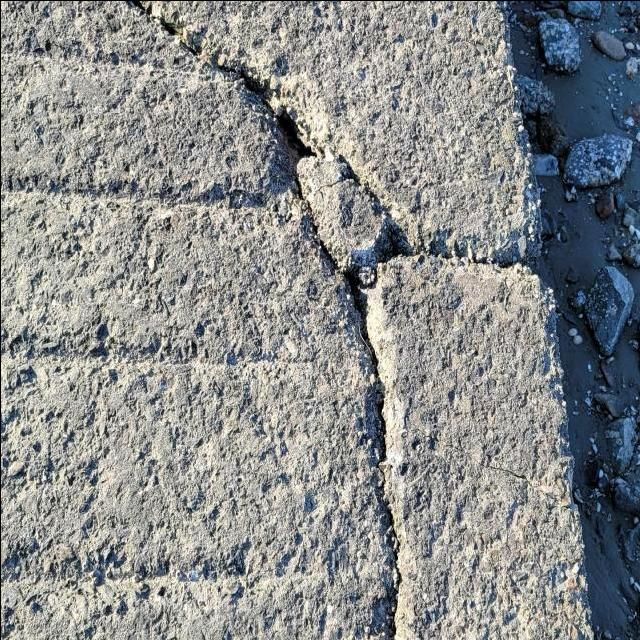SurfaceCrack: (19, 0, 541, 640)
